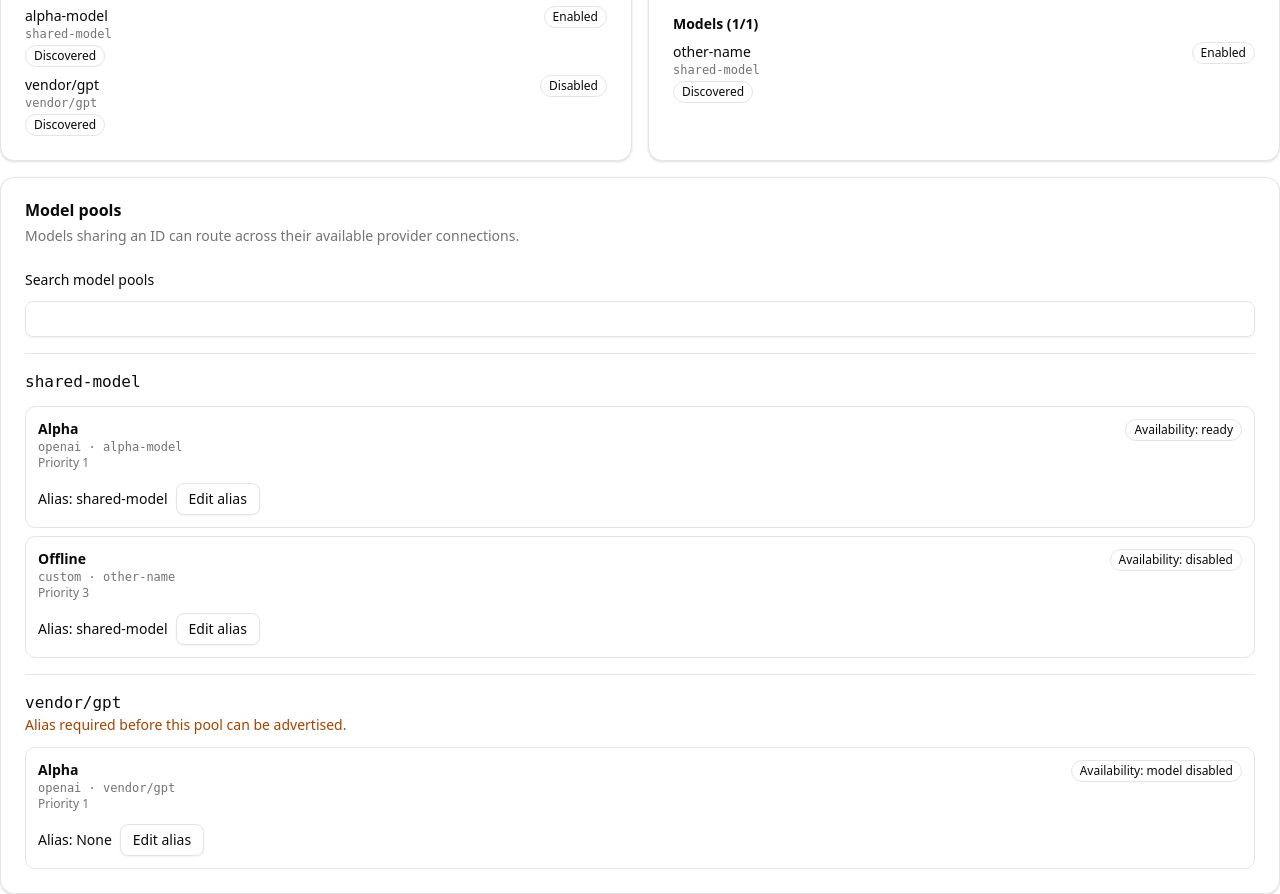
Test: Providers model pools › reloads on a stale catalog and asks the owner to retry
(page scrolled)
Expected: the heading "Model pools" is shown, [25, 199, 121, 221]
Step 1. Click the button "Edit alias" next to "None" → (162, 840), box [120, 824, 204, 856]
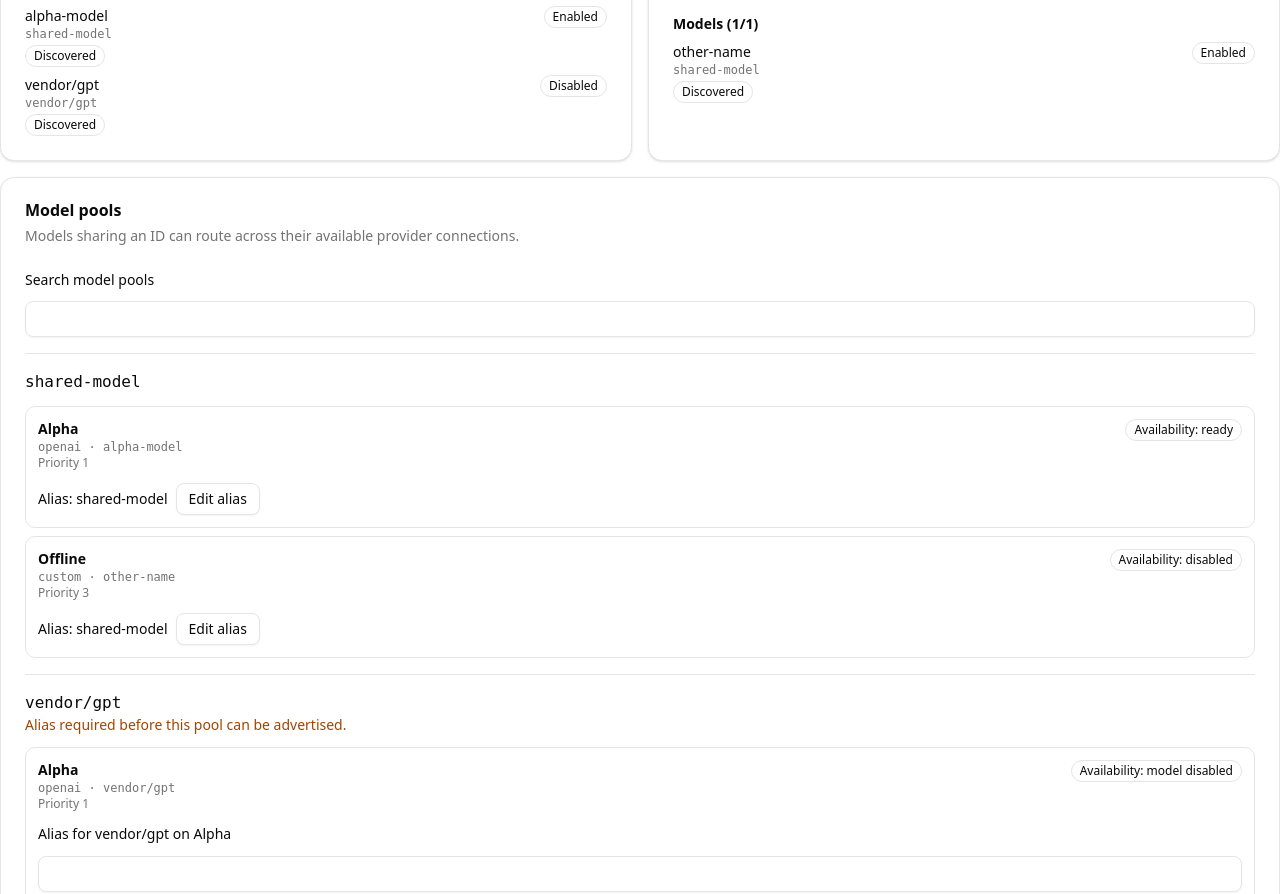
Step 2. Type "my-draft" into the field labelled "Alias for vendor/gpt on Alpha" → (640, 874), box [38, 856, 1242, 892]
(page scrolled)
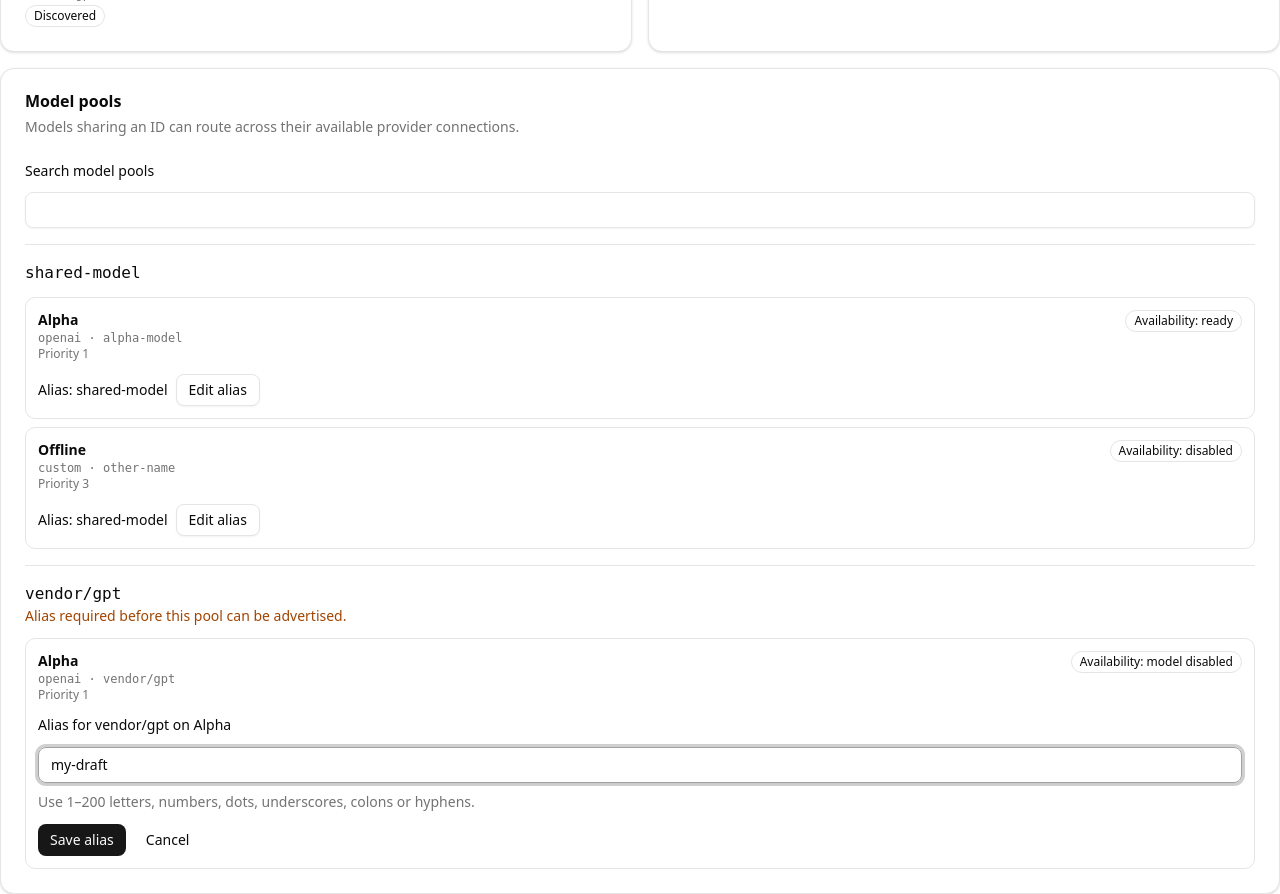
Step 3. Click the button "Save alias" → (82, 840), box [38, 824, 126, 856]
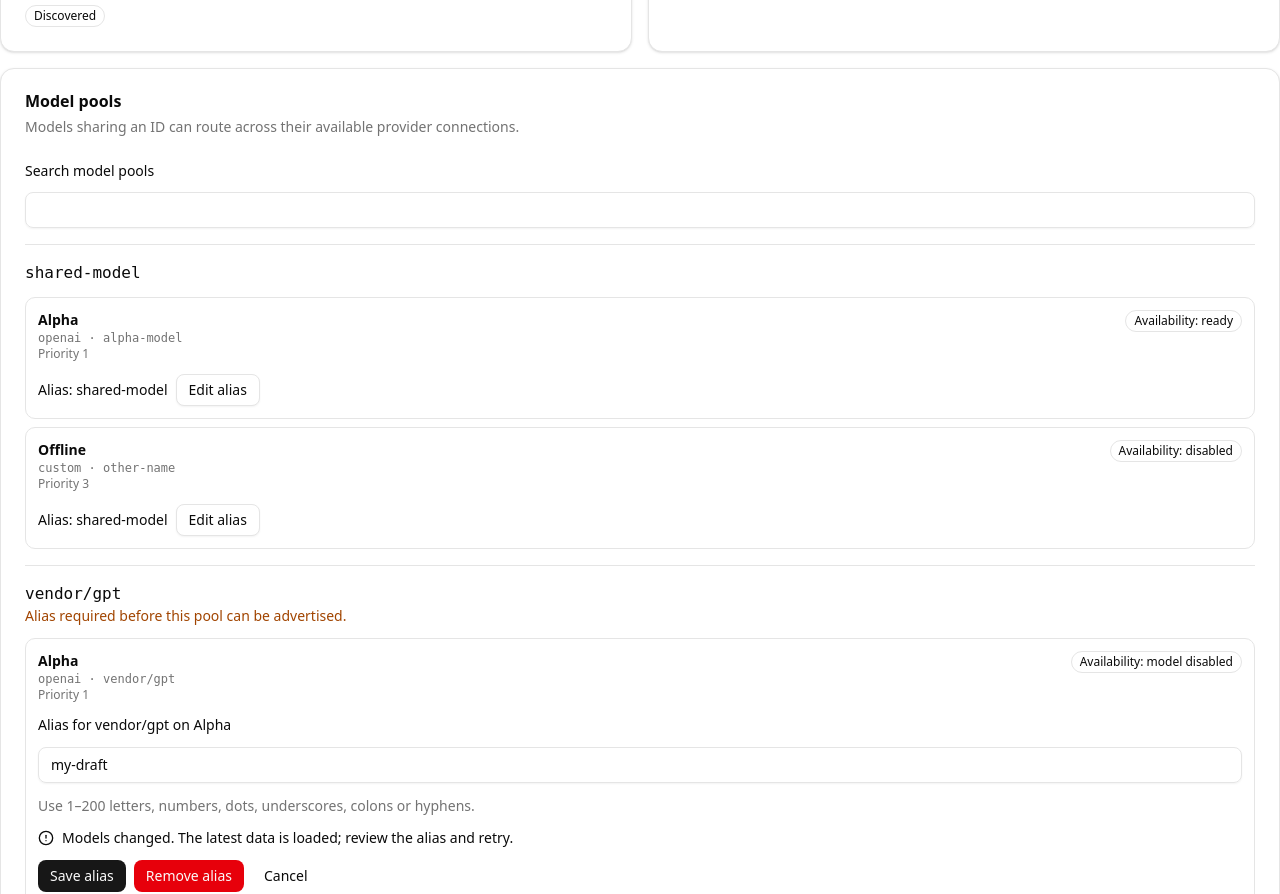
Expected: the text "Alias required before this pool can be advertised." is shown, [25, 606, 346, 625]
Expected: the text "Models changed. The latest data is loaded; review the alias and retry." is shown, [62, 828, 513, 848]
